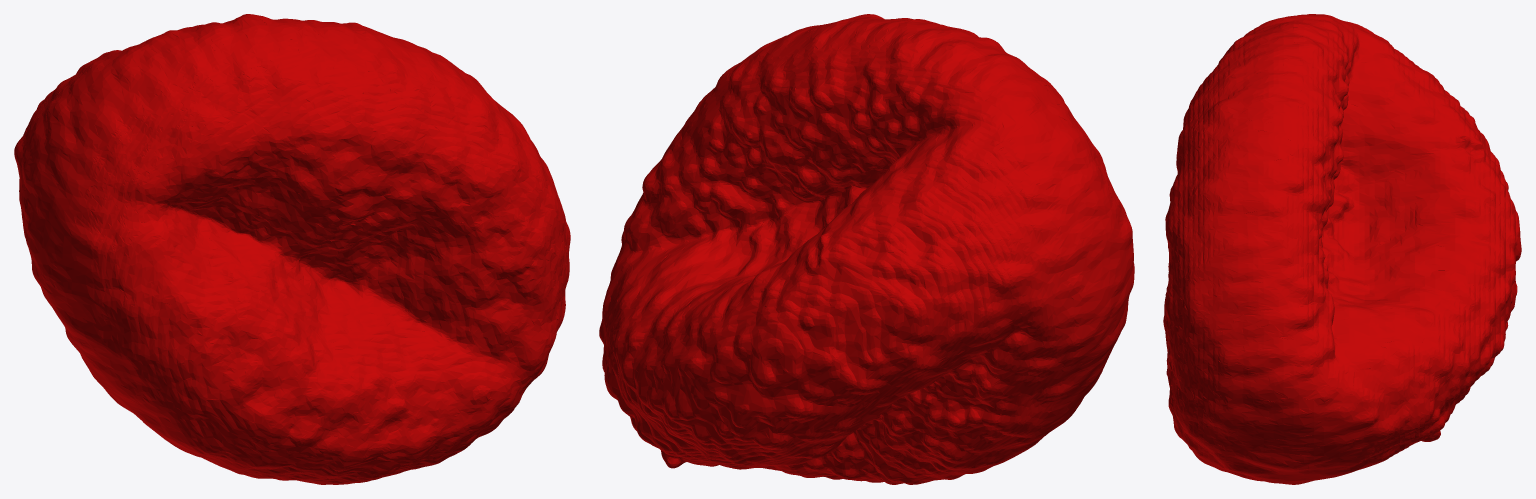
Rendered from 3DPX-017830-0.glb.
3 renders of one model, left to right at view 1: azimuth 30°, elevation 25°; view 2: azimuth 150°, elevation 25°; view 3: azimuth 270°, elevation 25°, orthographic. The views are drawn at different scales.
Size of the model in its own units: 40.21 by 36.39 by 30.64.
